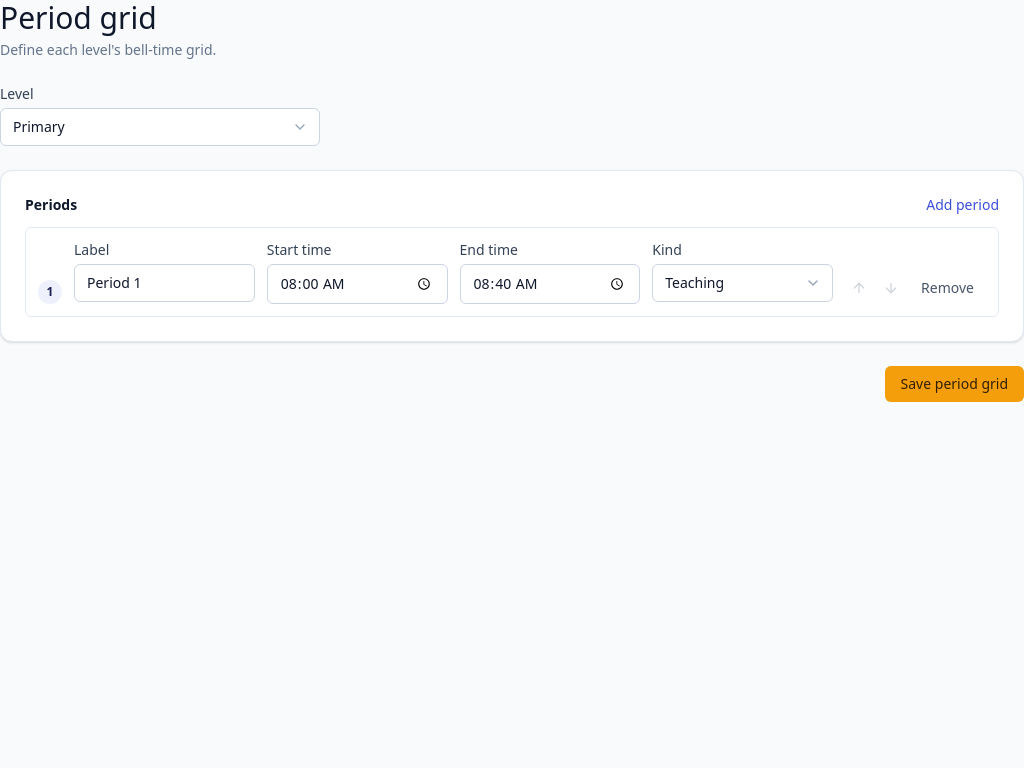
it: PeriodGridPage › loads the first level's grid, adds a period, and saves the expected payload
Expected: the field labelled "Label" holds "Period 1", [74,264,255,302]
Click the button "Add period": (963, 205) [926,195,999,215]
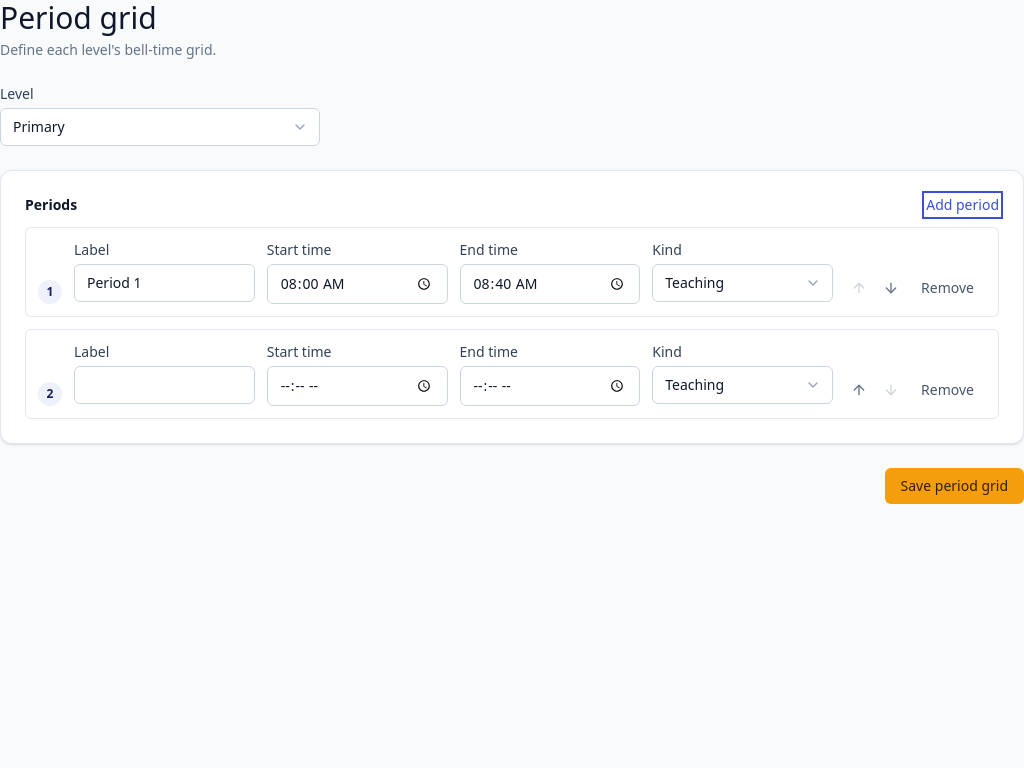
In the 2nd field labelled "Label": (164, 385) [74,366,255,404], type "Period 2"
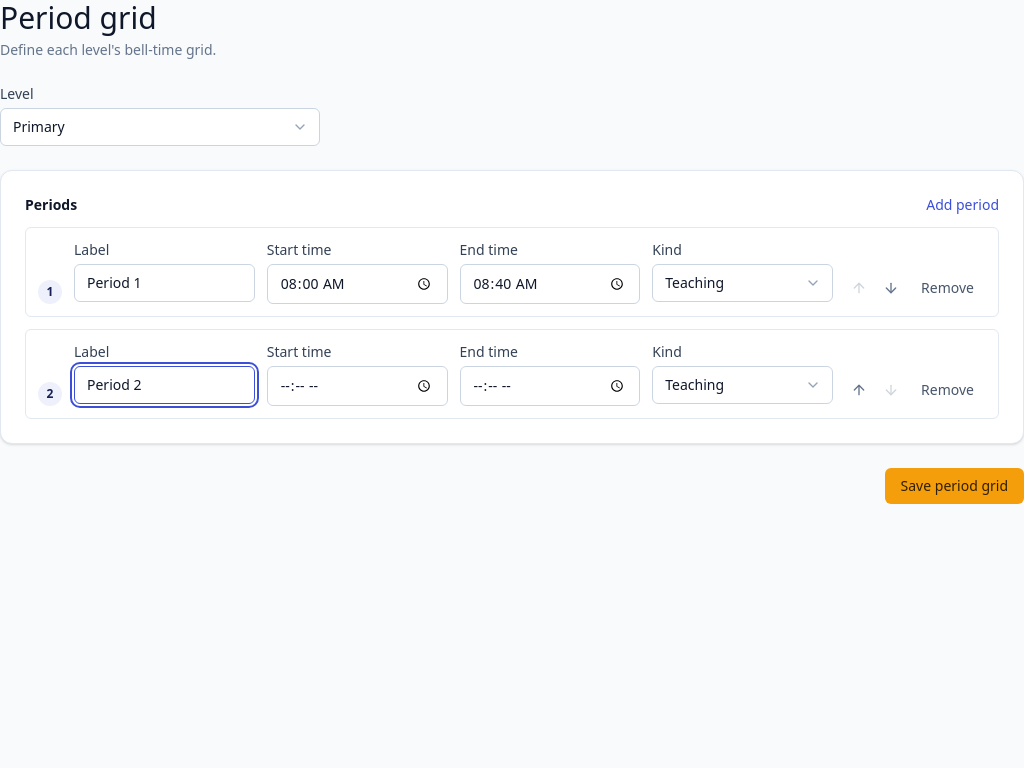
In the 2nd time field labelled "Start time": (357, 386) [267,366,448,406], type "08:40"
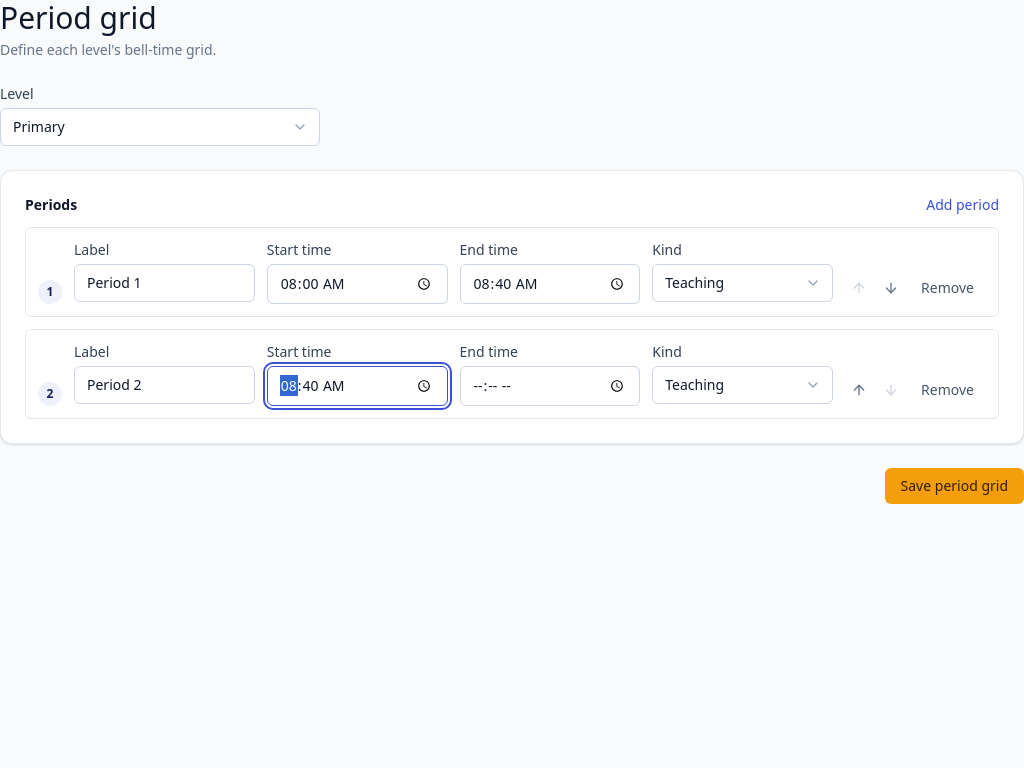
In the 2nd time field labelled "End time": (550, 386) [460,366,640,406], type "09:20"
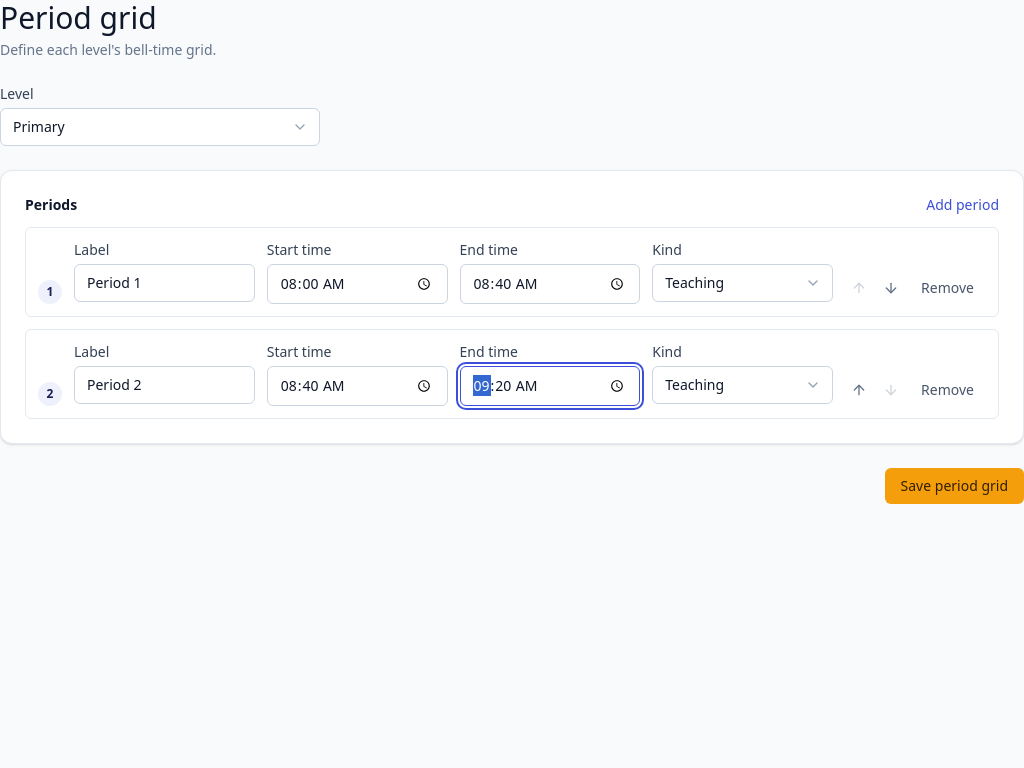
Click the button "Save period grid": (954, 486) [885,468,1023,504]
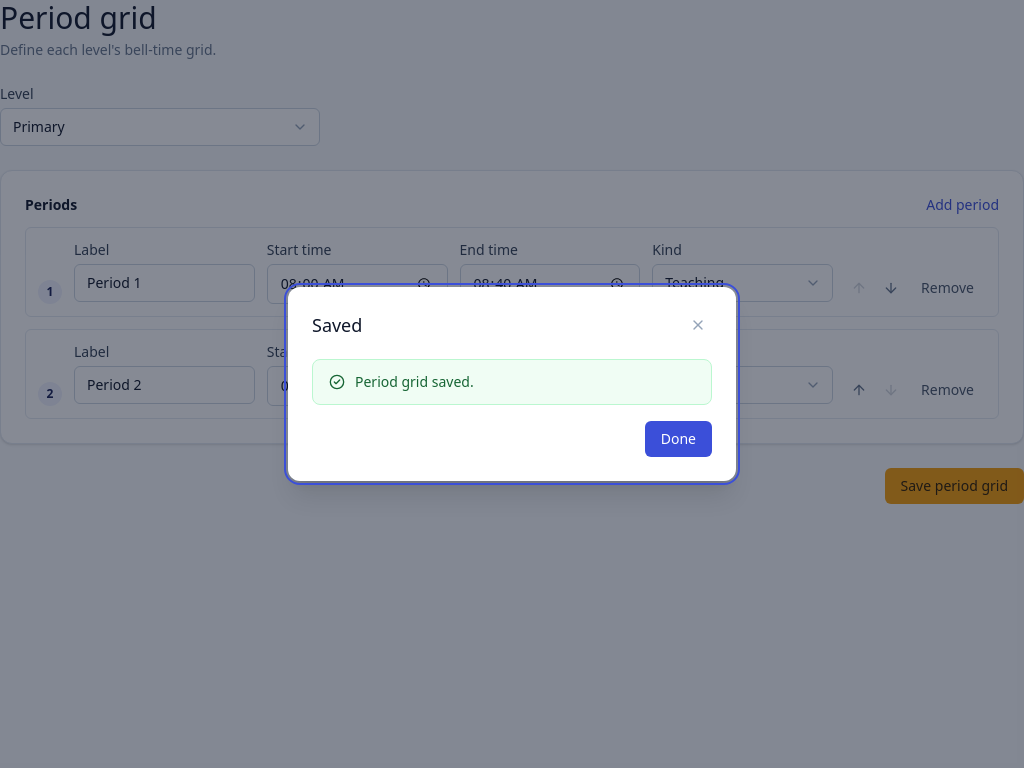
Expected: the text "Period grid saved." is shown, [355,372,474,392]
Click the button "Done": (678, 439) [645,421,712,457]
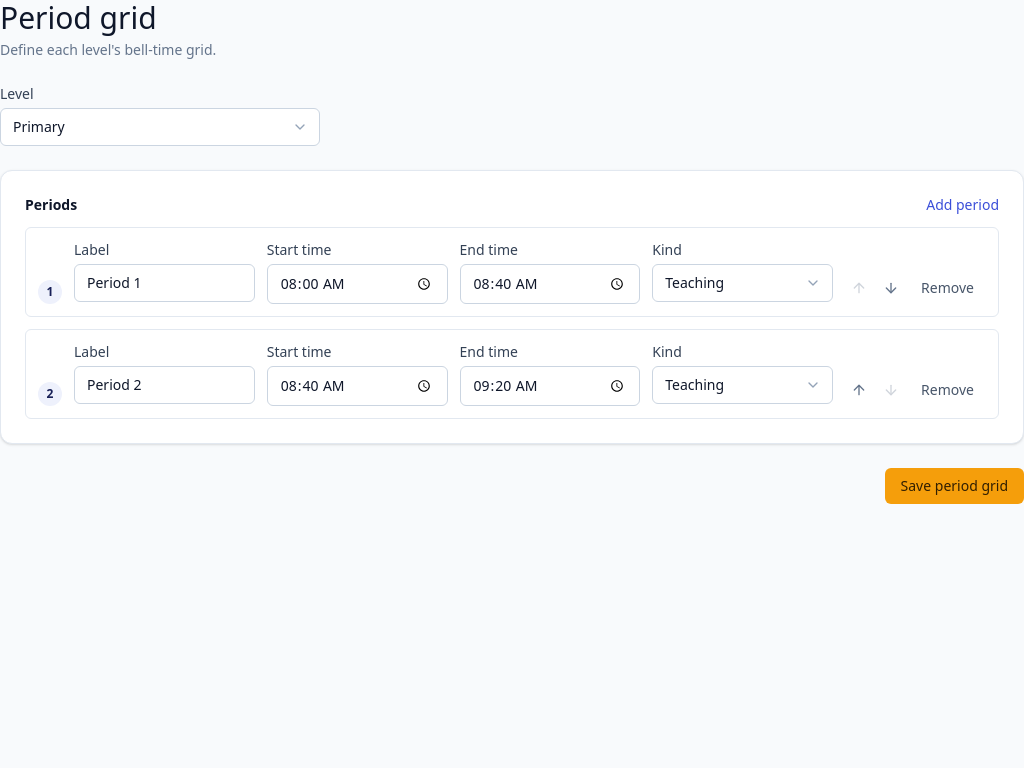
Expected: the dialog is gone
